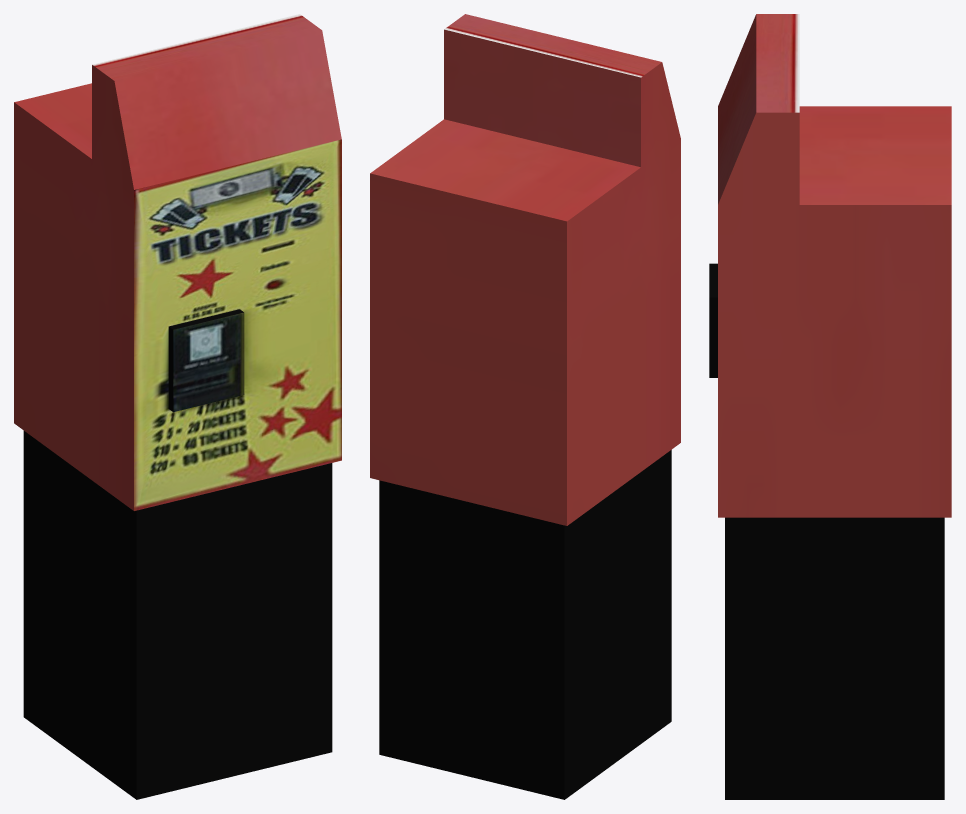
File: TicketMachine.fbx
The picture shows the model from 3 angles, left to right: view 1: azimuth 30°, elevation 25°; view 2: azimuth 150°, elevation 25°; view 3: azimuth 270°, elevation 25°; orthographic projection. The views are drawn at different scales.
Parts seen in each view (by area): view 1: Ticket Machine.002; view 2: Ticket Machine.002; view 3: Ticket Machine.002.
Boxes of the visible parts, x1,y1,x2,y2 form: Ticket Machine.002: [14, 14, 341, 799]; Ticket Machine.002: [370, 14, 680, 799]; Ticket Machine.002: [709, 14, 951, 799].
Bounding box in the file's own units: 53.13 × 173 × 55.12.
